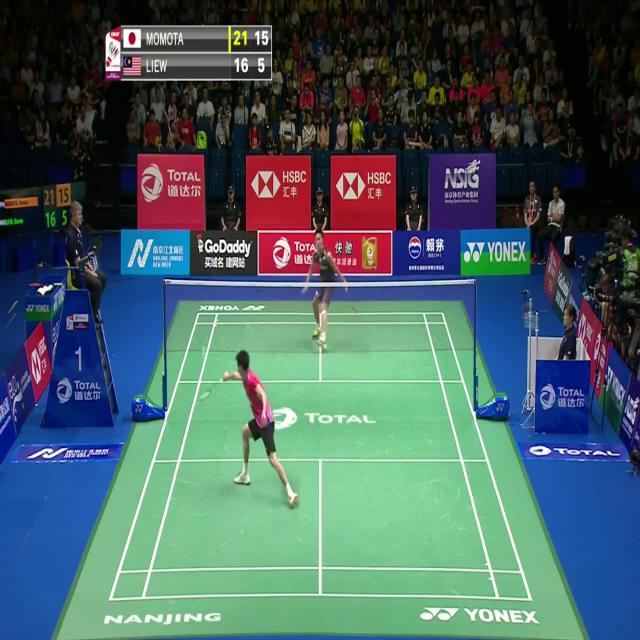Shuttlecock: (200, 344, 207, 355)
